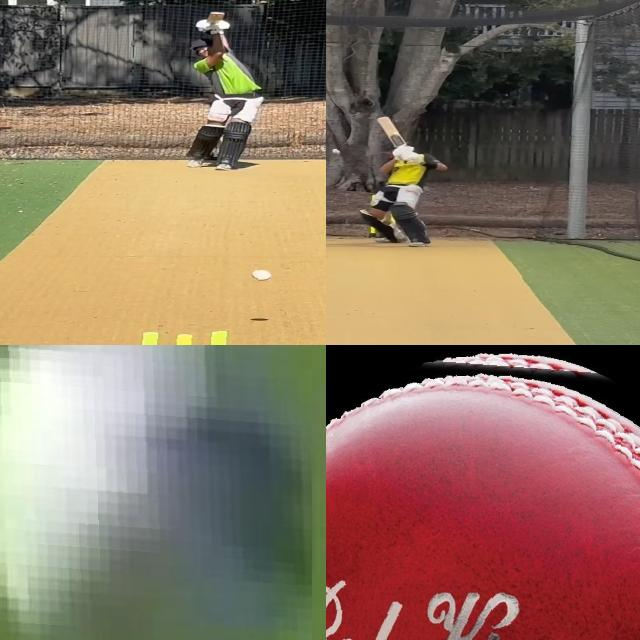Cricket ball: (326, 345, 640, 640), (0, 345, 311, 640), (250, 267, 273, 281), (330, 147, 342, 155)
